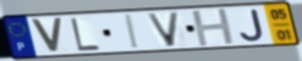H: (189, 7, 238, 48)
I: (124, 13, 142, 50)
J: (238, 8, 267, 43)
L: (69, 16, 103, 52)
V: (144, 11, 182, 48), (28, 17, 65, 54)
